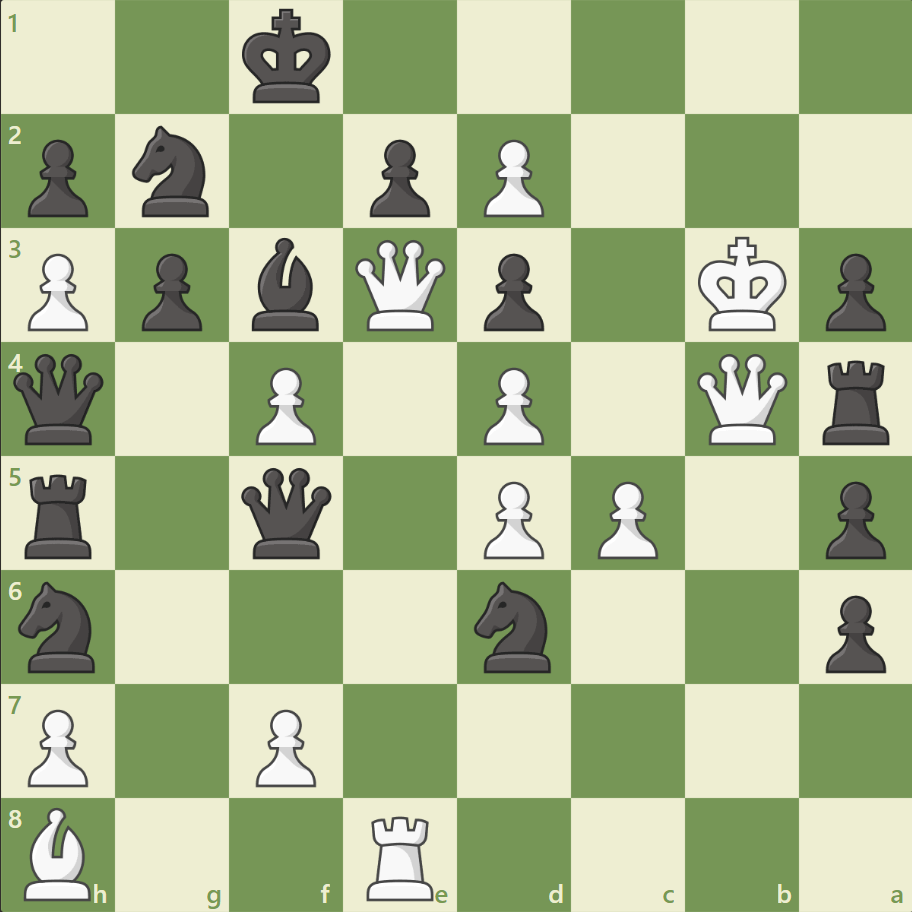B: (17, 801, 101, 904)
K: (692, 231, 792, 339)
P: (247, 700, 322, 791), (20, 700, 95, 791), (474, 473, 549, 564), (474, 359, 549, 450), (247, 359, 322, 450), (20, 246, 95, 337), (474, 132, 549, 223), (588, 473, 662, 564)
Q: (691, 349, 790, 449), (351, 236, 450, 335)
R: (360, 806, 442, 904)
b: (244, 233, 328, 336)
k: (238, 4, 338, 112)
n: (124, 121, 222, 223), (465, 575, 562, 677), (11, 575, 108, 677)
p: (474, 246, 549, 337), (133, 246, 208, 337), (20, 132, 95, 223), (815, 586, 889, 677), (815, 473, 889, 564), (815, 246, 889, 337), (361, 132, 435, 223)
q: (10, 349, 109, 449), (237, 463, 336, 562)
r: (19, 466, 102, 563), (814, 352, 897, 449)
